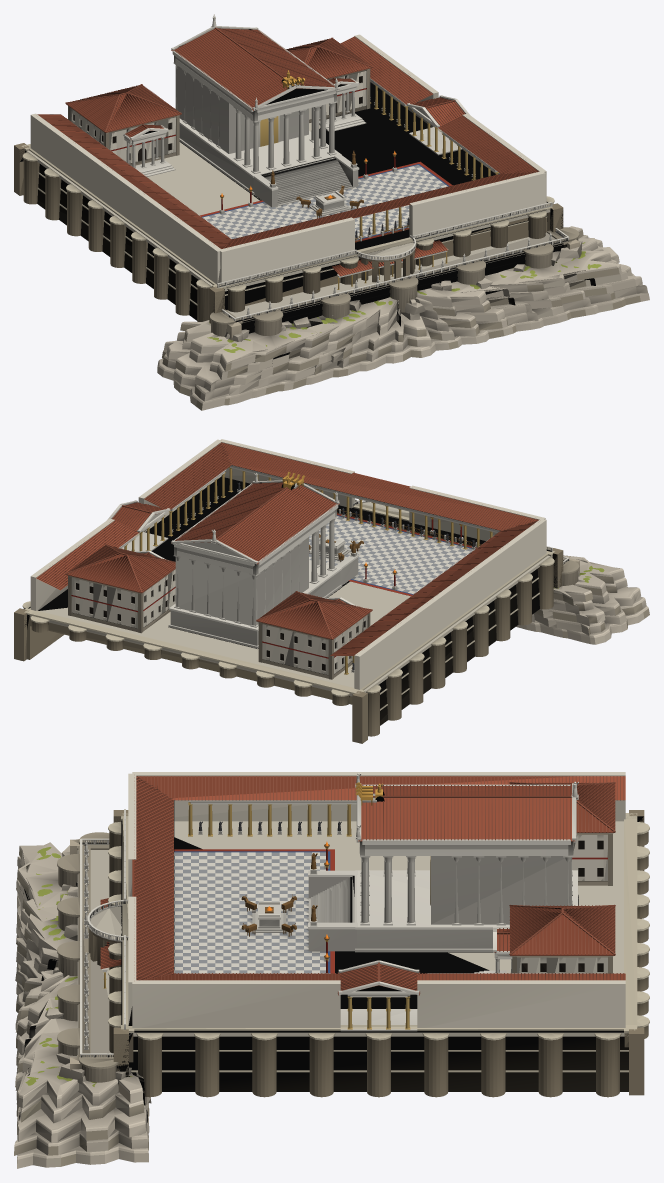
Rendered from rome_apollo.glb.
The picture shows the model from 3 angles, top to bottom: view 1: azimuth 30°, elevation 25°; view 2: azimuth 150°, elevation 25°; view 3: azimuth 270°, elevation 25°; orthographic projection. The views are drawn at different scales.
Visible parts, largest first — view 1: rome_apollo; view 2: rome_apollo; view 3: rome_apollo.
Part boxes in pixels (x1,y1,x2,y2): rome_apollo: (14,14,649,410); rome_apollo: (14,439,649,743); rome_apollo: (14,772,649,1168).
Bounding box in the file's own units: 125 × 49.71 × 116.
